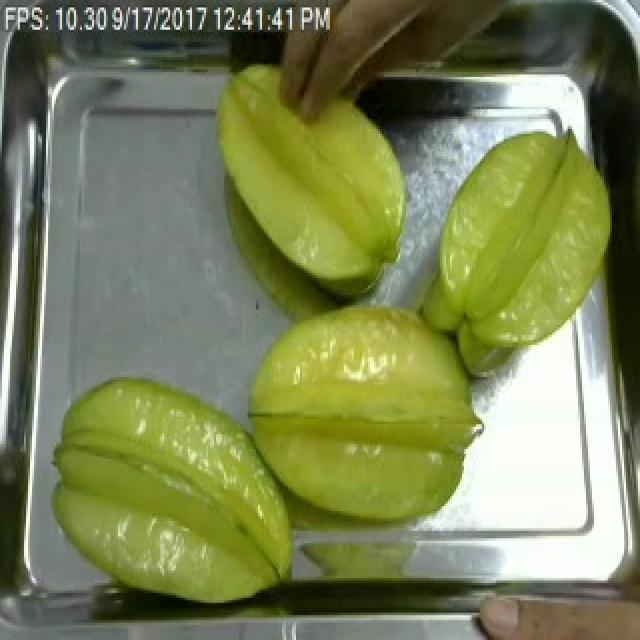fruit: (230, 288, 494, 536), (40, 370, 310, 610), (420, 112, 632, 362), (202, 65, 422, 298), (466, 565, 640, 640)
